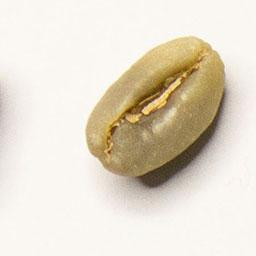longberry: (80, 31, 232, 184)
